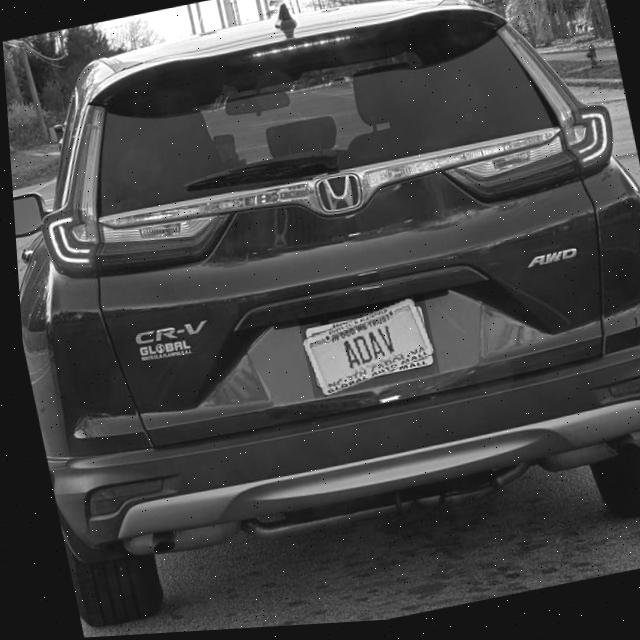LicensePlate: (298, 301, 431, 401)
